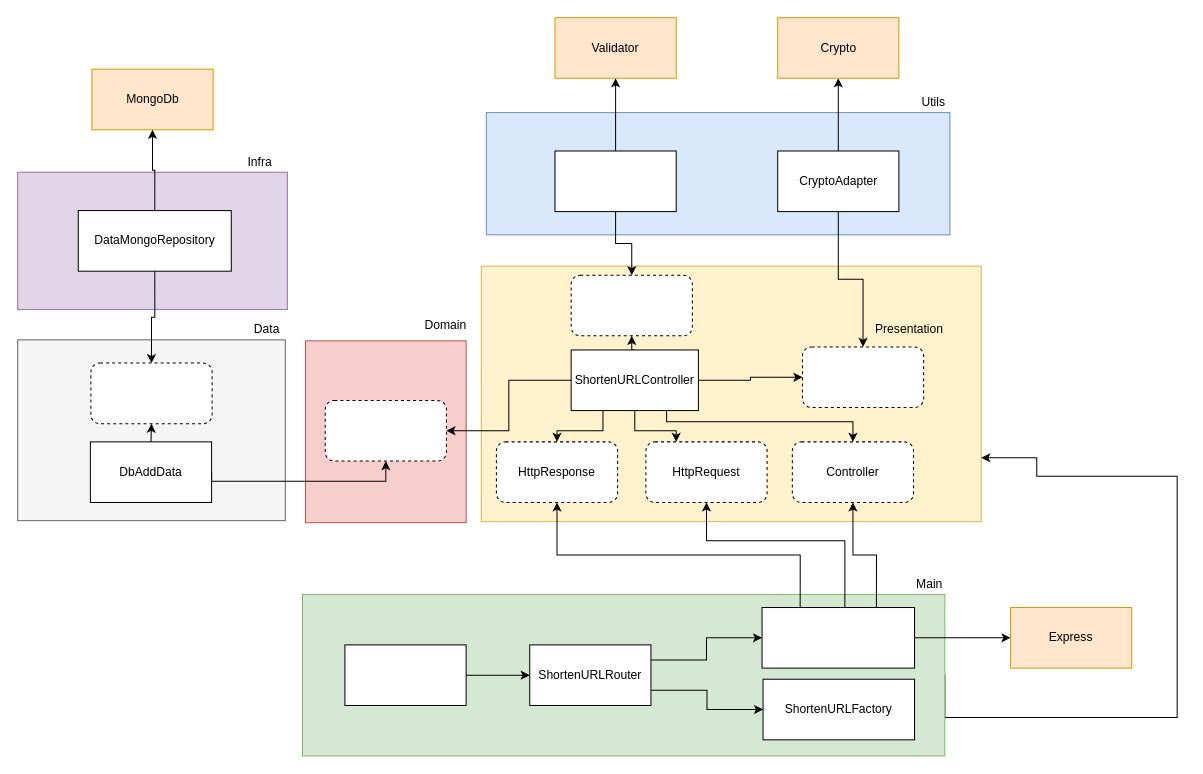
Some shapes in this 1203 by 774 pixel diagram are drawn without their labels. Each missing label, with the centre of its shape:
"AddDataRepo" goes at point 151,393.
"App" goes at point 405,674.
"ExpressRouteAdapter" goes at point 838,637.
"HasheGenerator" goes at point 631,305.
"Hasher" goes at point 862,377.
"ShortenURL" goes at point 385,430.
"URLValidatorAdapter" goes at point 615,181.
